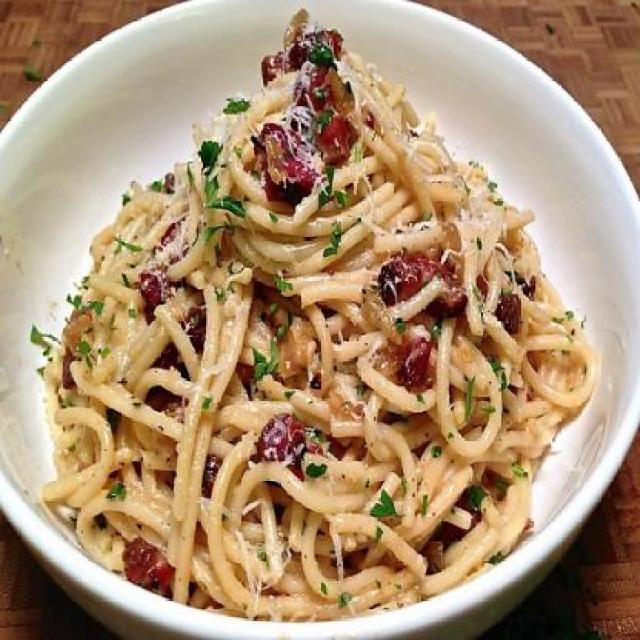Oil pasta: (67, 16, 551, 598)
